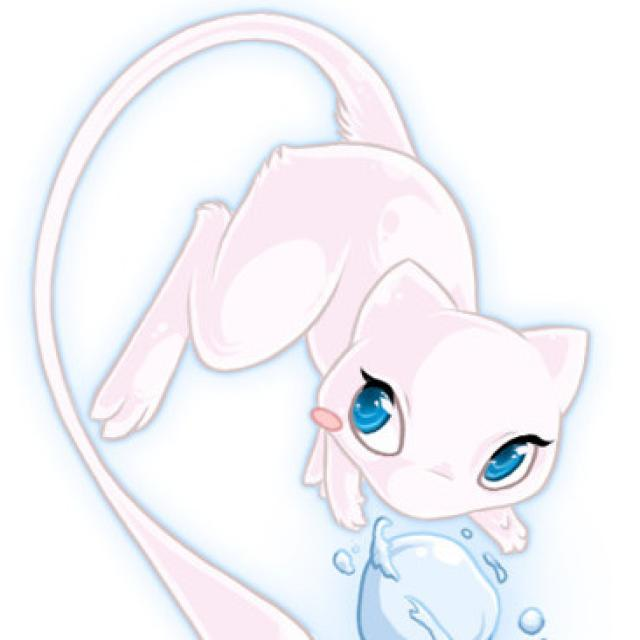Mew: (133, 133, 598, 543)
